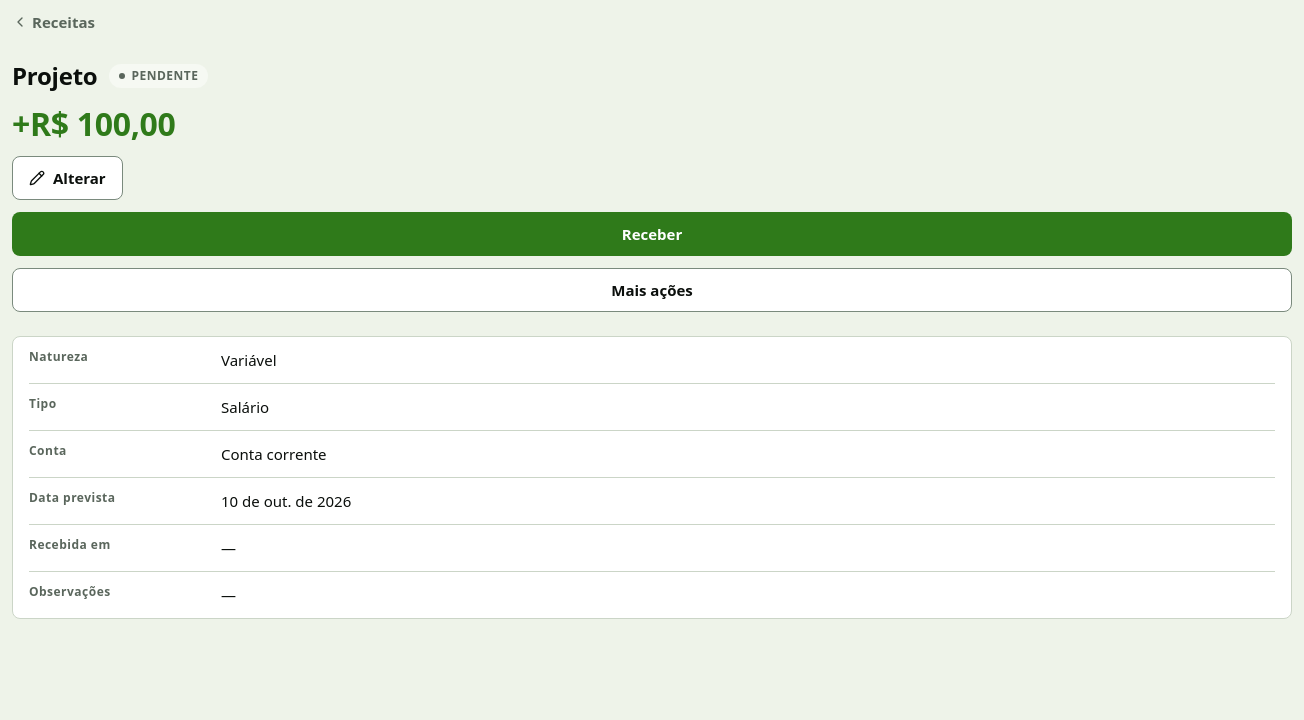
it: EarningActions on a narrow screen (spec 0014) › shows Receber full width and the rest, with Editar, under Mais ações
This screenshot has width=1304, height=720.
Check: the heading "Projeto" is shown, box x1=12 y1=60 x2=98 y2=92
What coordinates should you click on to do the following:
click the button "Mais ações"
I would click on:
 (652, 290)
Its box is x1=12 y1=268 x2=1292 y2=312.
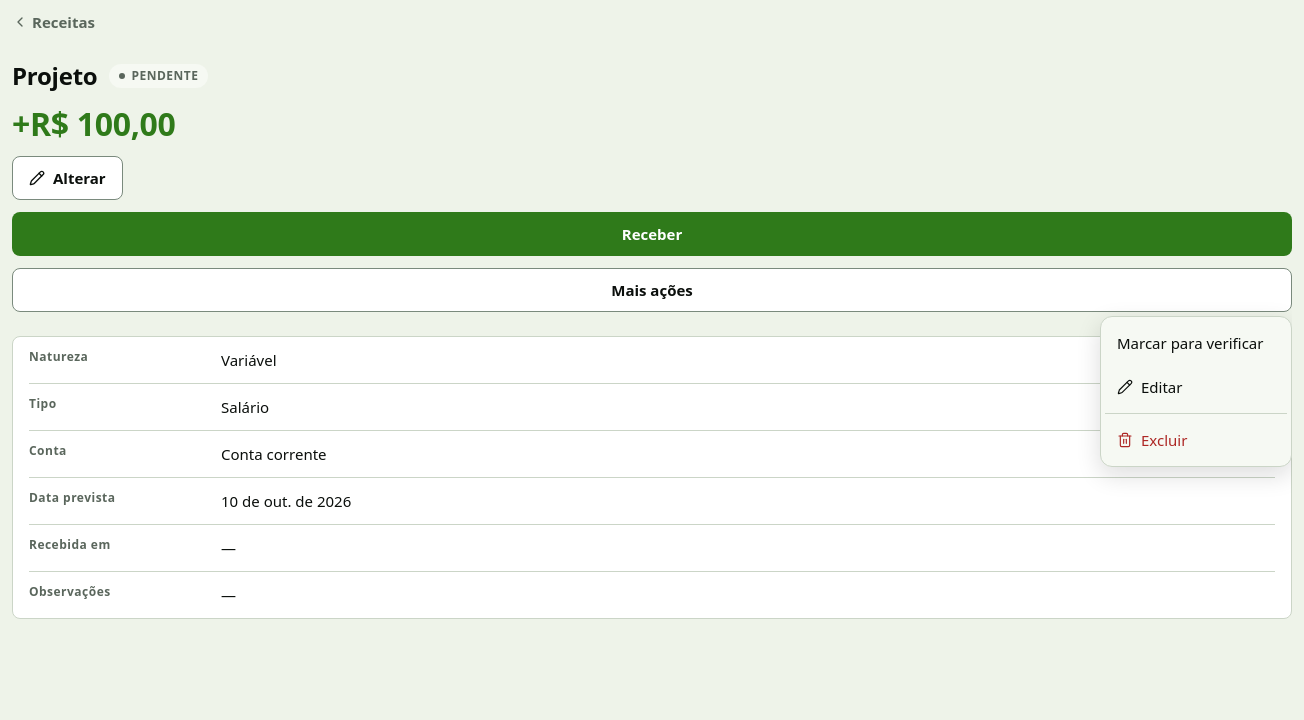
Check: the menu items read "Marcar para verificar", "Editar", "Excluir", in this order, box x1=1117 y1=333 x2=1264 y2=353; x1=1117 y1=377 x2=1182 y2=397; x1=1117 y1=430 x2=1187 y2=450
